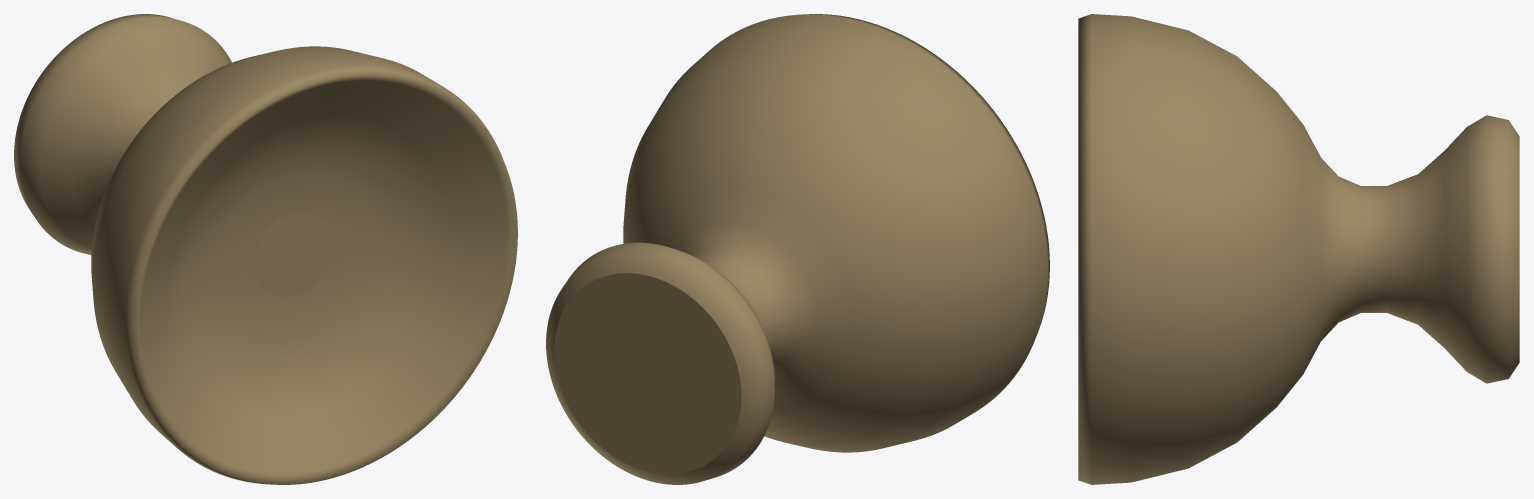
File: eurofit-k-62301rg-v2.glb
3 renders of one model, left to right at view 1: azimuth 30°, elevation 25°; view 2: azimuth 150°, elevation 25°; view 3: azimuth 270°, elevation 25°, orthographic. The views are drawn at different scales.
Parts seen in each view (by area): view 1: K62301 continuous bowl and bell foot; view 2: K62301 continuous bowl and bell foot; view 3: K62301 continuous bowl and bell foot.
Boxes of the visible parts, x1,y1,x2,y2 form: K62301 continuous bowl and bell foot: (14,14,517,484); K62301 continuous bowl and bell foot: (546,14,1049,484); K62301 continuous bowl and bell foot: (1078,14,1519,484).
Size of the model in its own units: 0.032 by 0.032 by 0.03.
